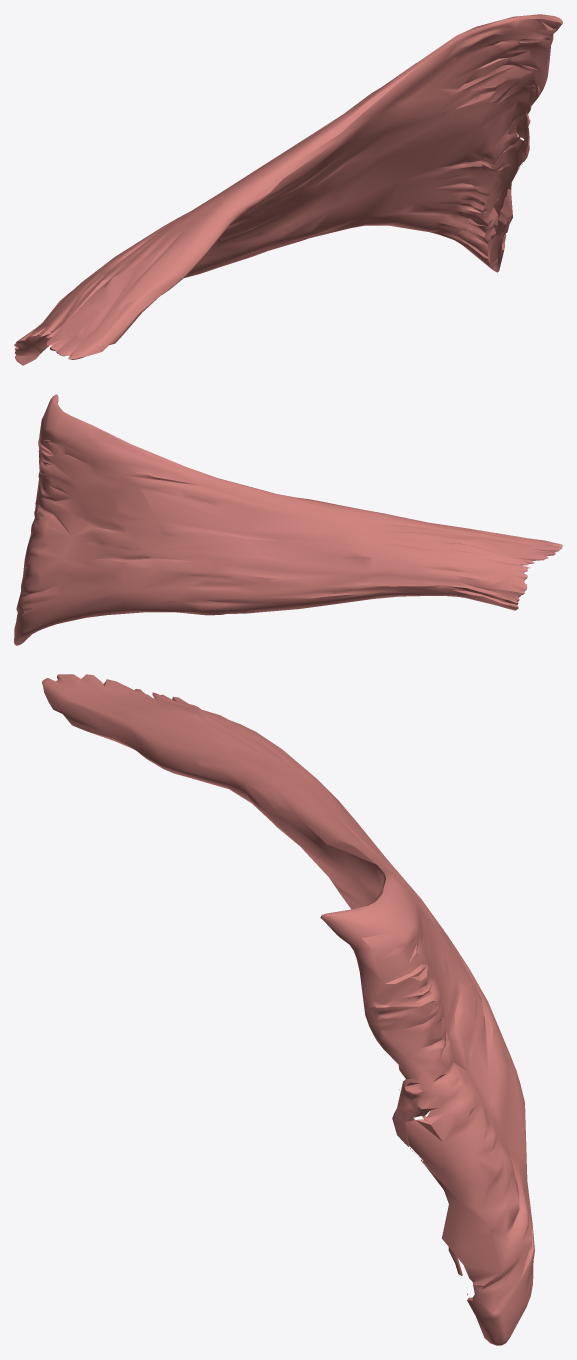
File: fma33584_fj1554.glb
3 renders of one model, top to bottom at view 1: azimuth 30°, elevation 25°; view 2: azimuth 150°, elevation 25°; view 3: azimuth 270°, elevation 25°, orthographic. The views are drawn at different scales.
Visible parts, largest first — view 1: FMA33584_FJ1554; view 2: FMA33584_FJ1554; view 3: FMA33584_FJ1554.
Part boxes in pixels (x1,y1,x2,y2): FMA33584_FJ1554: (14, 14, 562, 365); FMA33584_FJ1554: (14, 394, 562, 645); FMA33584_FJ1554: (42, 674, 534, 1345).
Bounding box in the file's own units: 0.1671 × 0.0785 × 0.0804.
